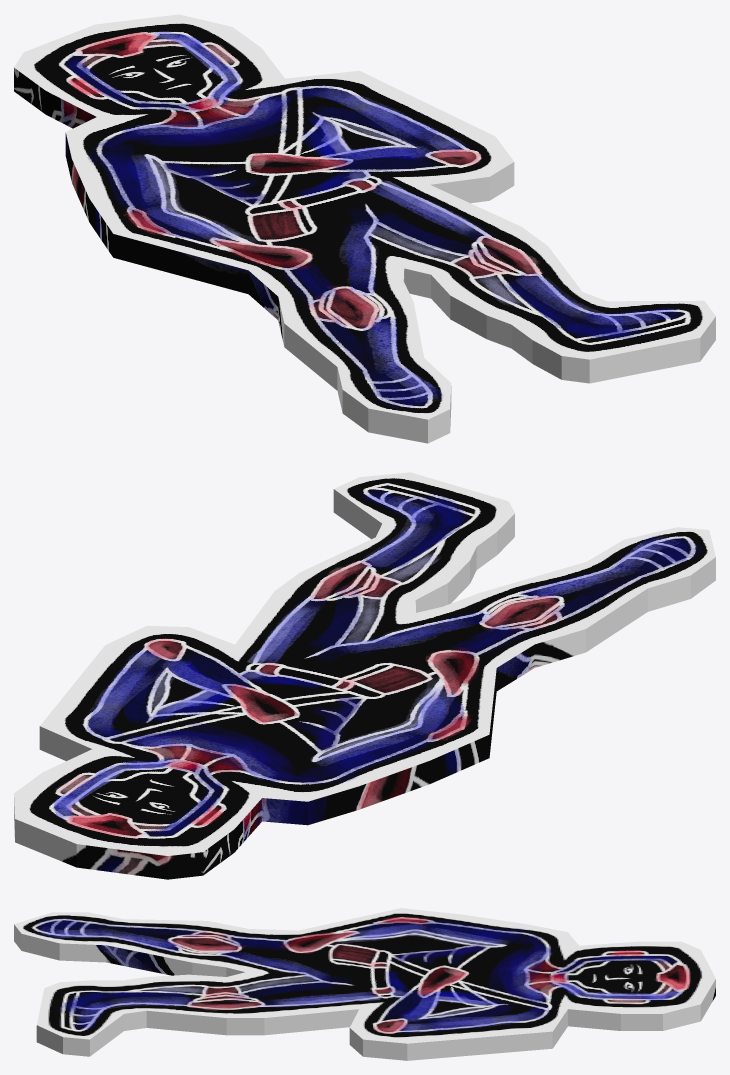
File: astronaut_L_ble_v04.obj
3 renders of one model, top to bottom at view 1: azimuth 30°, elevation 25°; view 2: azimuth 150°, elevation 25°; view 3: azimuth 270°, elevation 25°, orthographic. The views are drawn at different scales.
Visible parts, largest first — view 1: MeshBody5; view 2: MeshBody5; view 3: MeshBody5.
Part boxes in pixels (bbox=[...]): MeshBody5: bbox=[14, 14, 715, 443]; MeshBody5: bbox=[14, 472, 715, 879]; MeshBody5: bbox=[14, 908, 715, 1060].
Size of the model in its own units: 0.8456 by 0.05 by 1.85.
